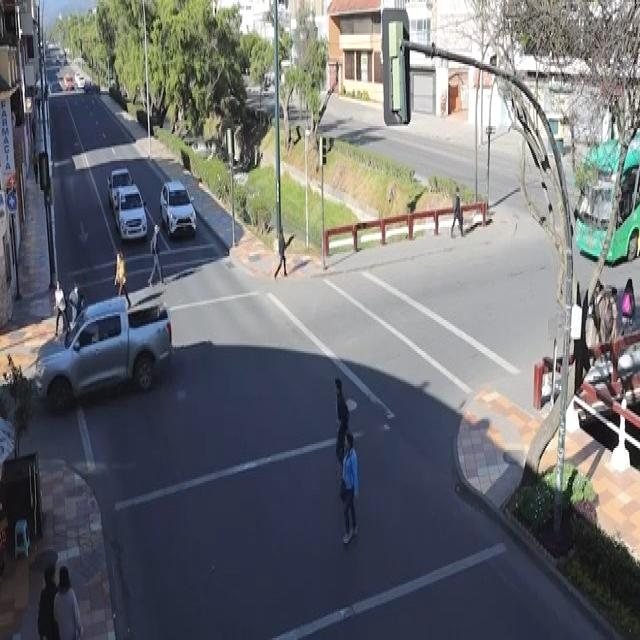CMT: (31, 292, 177, 407)
